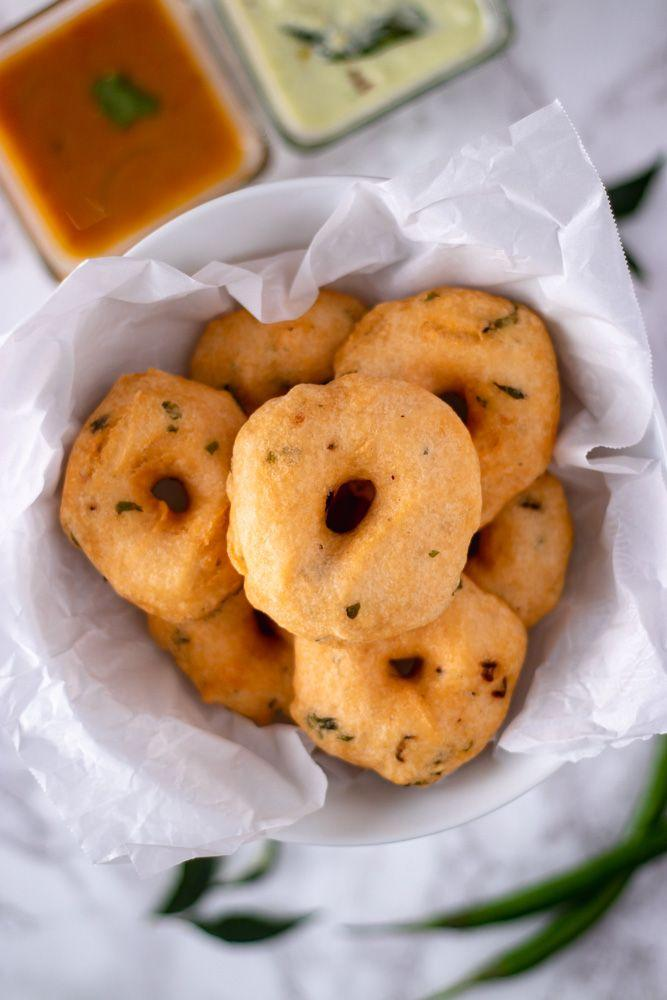coconut chutney: (242, 0, 508, 128)
medu vada: (52, 315, 588, 764)
sambhar: (0, 5, 262, 235)
